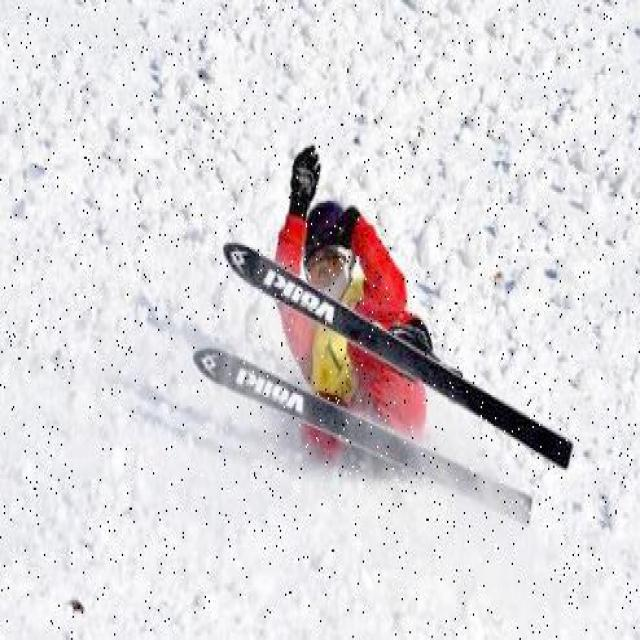fall: (267, 148, 433, 470)
